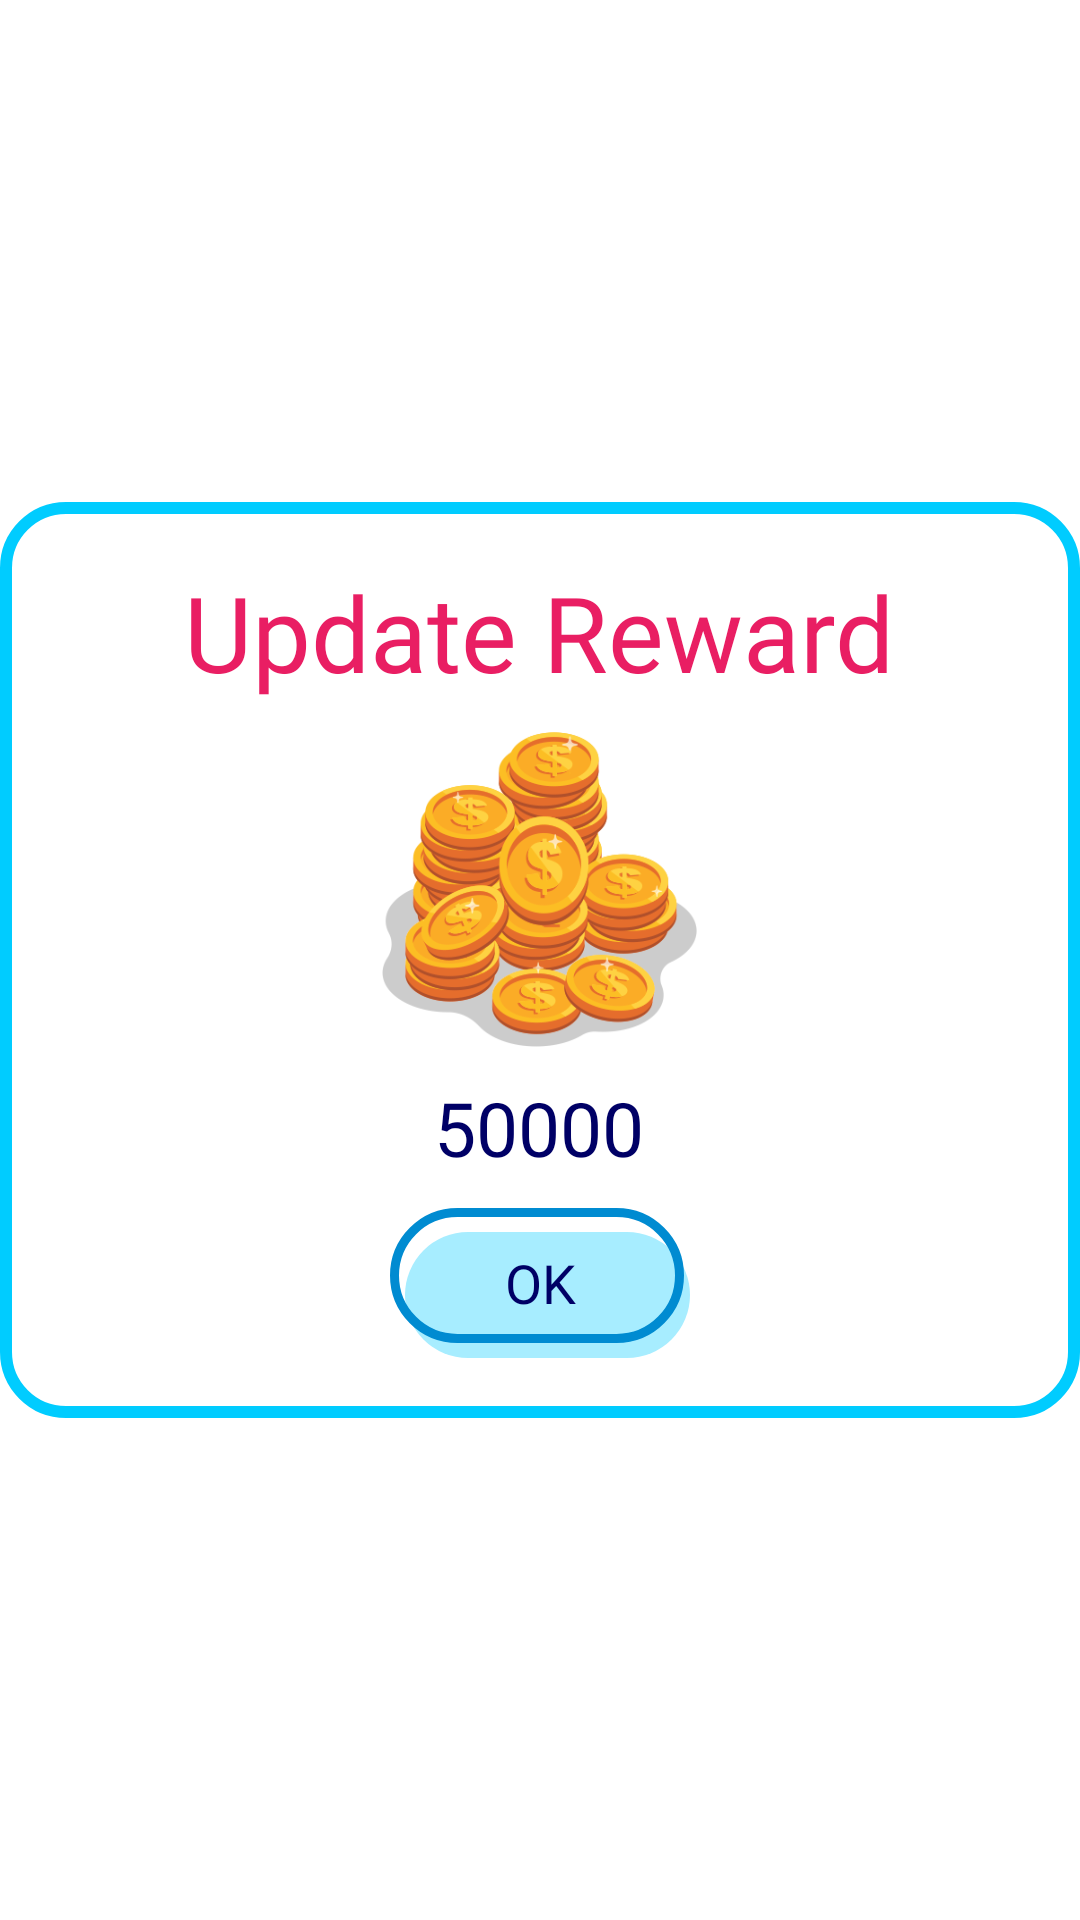

Point at icon controls on the screen. Image size 1080px×1920px, points as [x,y].
coins: [540,889]
